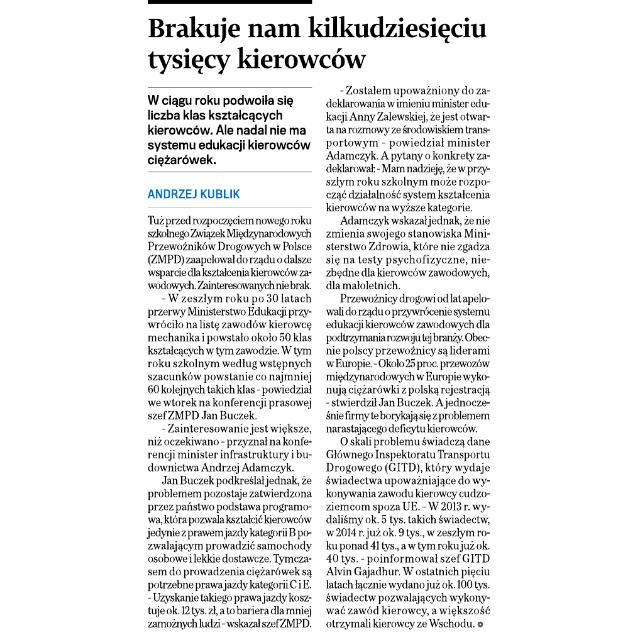author: (144, 185, 246, 202)
body: (322, 84, 493, 632), (145, 213, 315, 632)
lead: (145, 90, 319, 168)
title: (147, 11, 489, 78)
